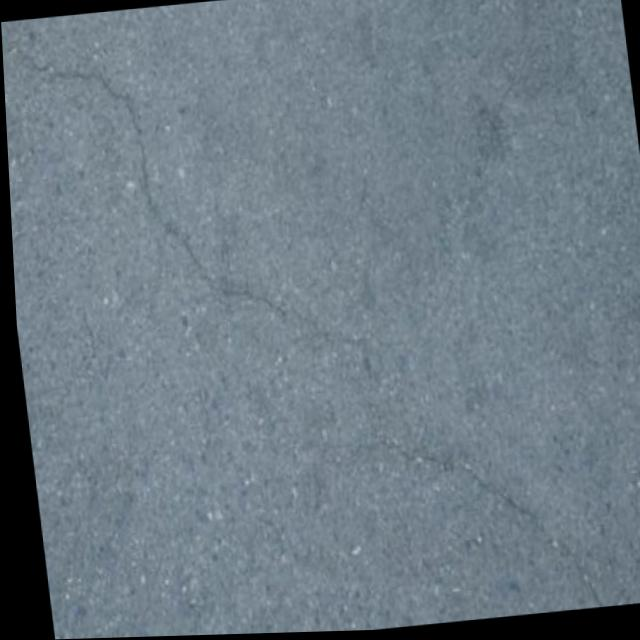Crack: (16, 6, 373, 401), (364, 417, 604, 627)
